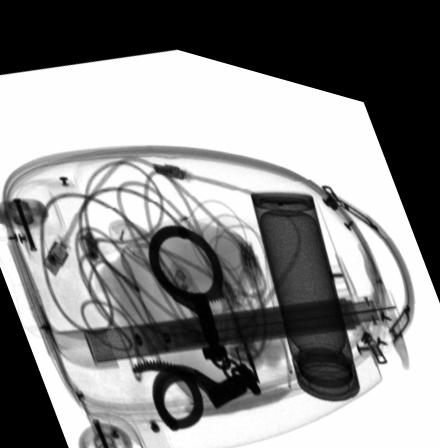HandCuffs: (128, 215, 263, 422)
